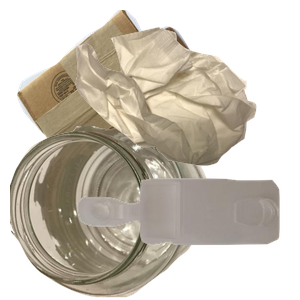cardboard: (14, 10, 222, 190)
glass: (10, 126, 216, 300)
plastic: (75, 176, 300, 300)
trash: (73, 25, 300, 183)
